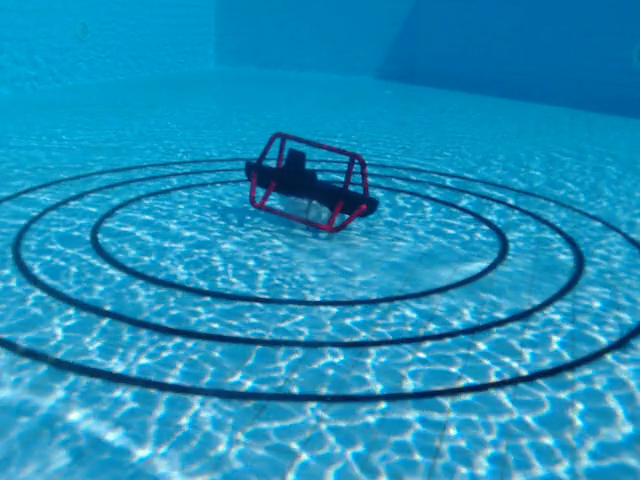submarine: (244, 130, 381, 236)
